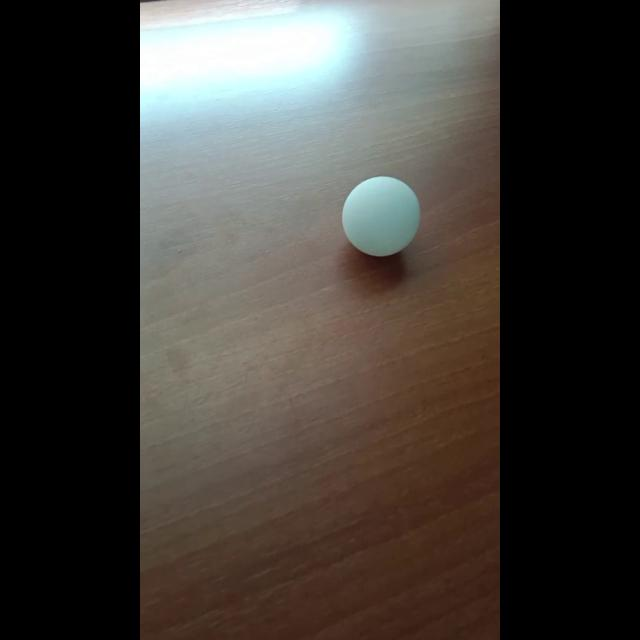white ball: (341, 175, 421, 257)
